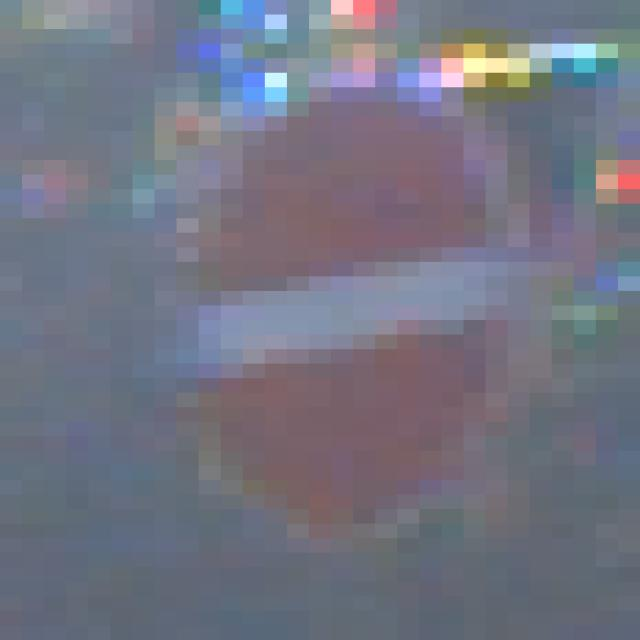No Entry: (134, 74, 531, 554)
